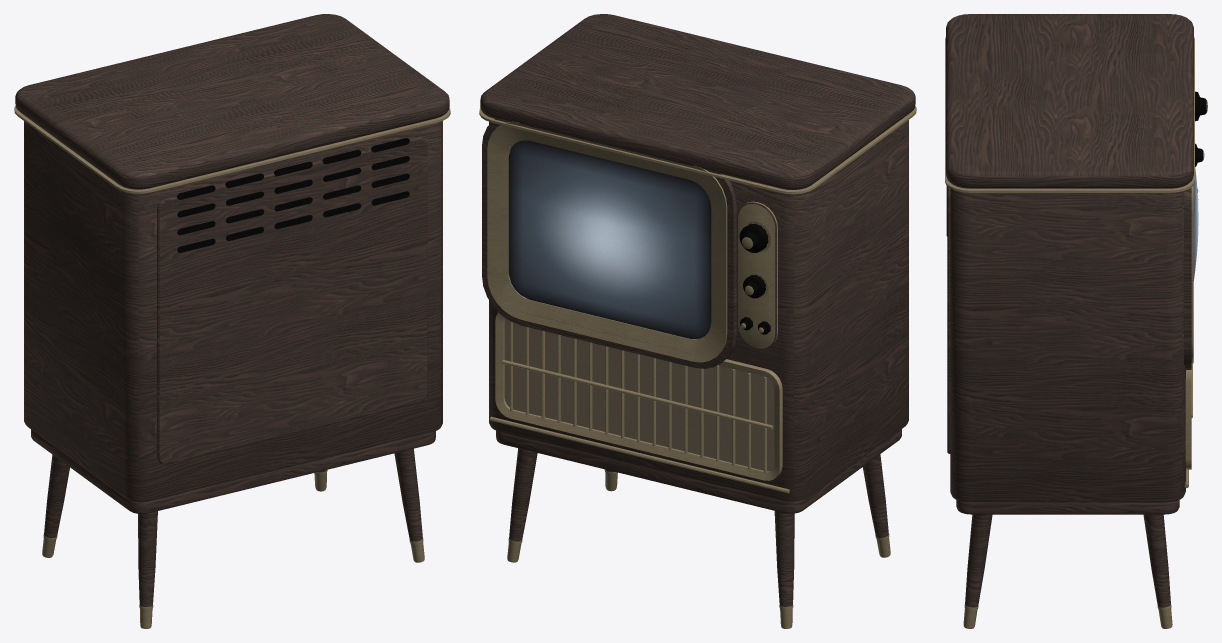
The model's file is tv_midcentury.glb.
3 renders of one model, left to right at view 1: azimuth 30°, elevation 25°; view 2: azimuth 150°, elevation 25°; view 3: azimuth 270°, elevation 25°, orthographic.
Parts seen in each view (by area): view 1: Cabinet, Legs; view 2: Cabinet, Screen, Grille, Legs, Knobs; view 3: Cabinet, Legs, Grille, Screen, Knobs.
Part boxes in pixels (x1,y1,x2,y2): Cabinet: (14,14,450,513); Legs: (42,448,424,628); Cabinet: (479,14,916,513); Screen: (508,140,711,338); Grille: (495,312,782,480); Legs: (507,448,890,628); Knobs: (739,220,771,334); Cabinet: (945,14,1194,514); Legs: (963,514,1172,628); Grille: (1185,363,1192,469); Screen: (1193,166,1198,280); Knobs: (1195,91,1207,199).
Size of the model in its own units: 0.784 by 1.05 by 0.5355.
Materials: 6 (6 with a texture image).
